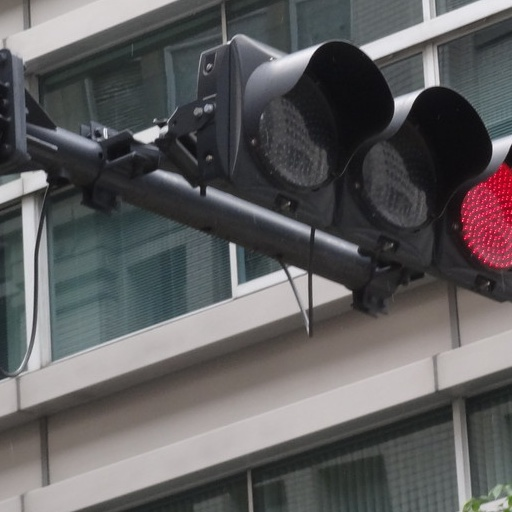Traffic_Signal_Red: (218, 46, 509, 278)
